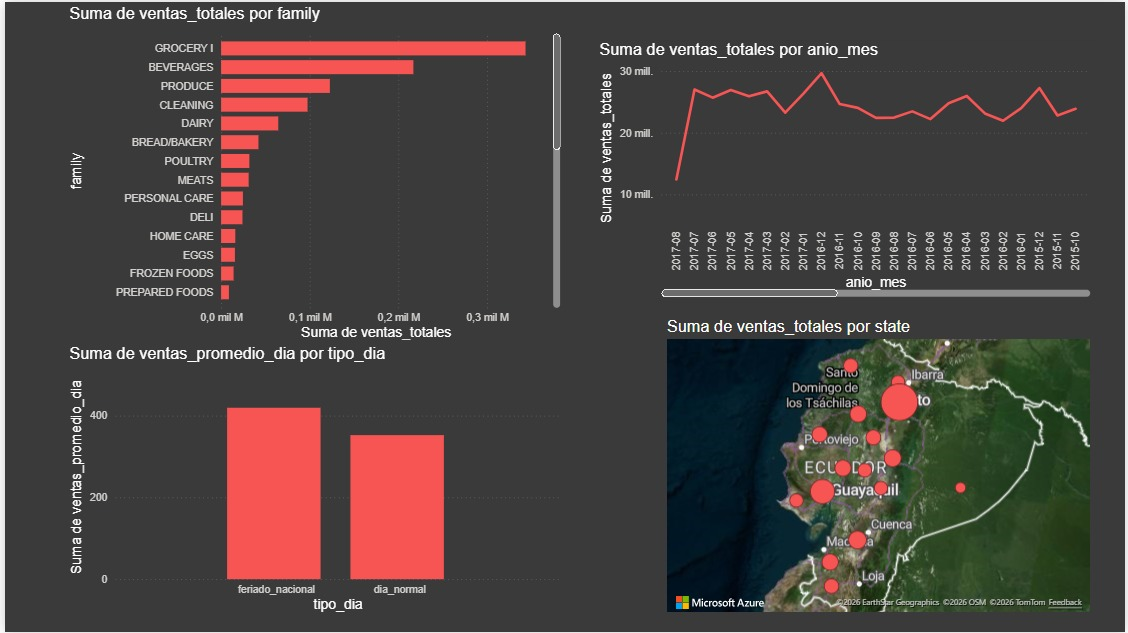

The page's visual inventory and layout, read from the dashboard file:
{"tool":"powerbi","page":{"name":"Página 1","canvas":[1280,720],"ordinal":0},"visuals":[{"type":"barChart","fields":{"Category":["public eda_ventas_por_familia.family"],"Y":["Sum(public eda_ventas_por_familia.ventas_totales)"]},"box":[69,2.7,571.1,388.4],"z":0},{"type":"azureMap","fields":{"Category":["public eda_ventas_por_ciudad_provincia.state"],"Size":["Sum(public eda_ventas_por_ciudad_provincia.ventas_totales)"]},"box":[751.1,360,494,342.4],"z":1000},{"type":"lineChart","fields":{"Category":["public eda_evolucion_temporal.anio_mes"],"Y":["Sum(public eda_evolucion_temporal.ventas_totales)"]},"box":[674,44.7,571.1,297.7],"z":2000},{"type":"clusteredColumnChart","fields":{"Category":["public eda_impacto_feriados.tipo_dia"],"Y":["Sum(public eda_impacto_feriados.ventas_promedio_dia)"]},"box":[69,391,571,311],"z":3000}]}

Visuals, with their boxes in screenshot pixels (x1, y1, x2, y2), scaled from the page's 1280x720 canvas onto the 1128x633 screenshot:
barChart - public eda_ventas_por_familia.family x Sum(public eda_ventas_por_familia.ventas_totales): bbox=(61, 2, 564, 344)
azureMap - public eda_ventas_por_ciudad_provincia.state x Sum(public eda_ventas_por_ciudad_provincia.ventas_totales): bbox=(662, 316, 1097, 618)
lineChart - public eda_evolucion_temporal.anio_mes x Sum(public eda_evolucion_temporal.ventas_totales): bbox=(594, 39, 1097, 301)
clusteredColumnChart - public eda_impacto_feriados.tipo_dia x Sum(public eda_impacto_feriados.ventas_promedio_dia): bbox=(61, 344, 564, 617)
